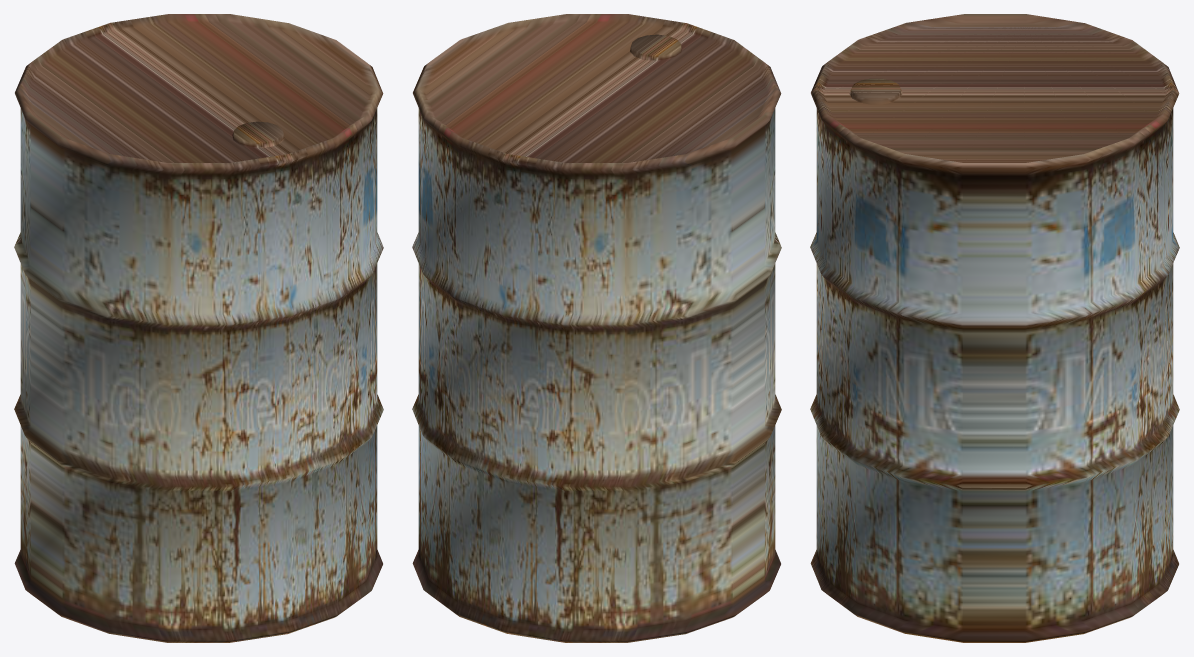
Rendered from barrel_check.FBX.
3 renders of one model, left to right at view 1: azimuth 30°, elevation 25°; view 2: azimuth 150°, elevation 25°; view 3: azimuth 270°, elevation 25°, orthographic.
Visible parts, largest first — view 1: Mesh; view 2: Mesh; view 3: Mesh.
Part boxes in pixels (left/top/right/bottom): Mesh: left=14, top=14, right=383, bottom=642; Mesh: left=412, top=14, right=781, bottom=642; Mesh: left=810, top=14, right=1179, bottom=642.
Size of the model in its own units: 33.16 by 48.2 by 33.65.
1 material, 1 textured.
